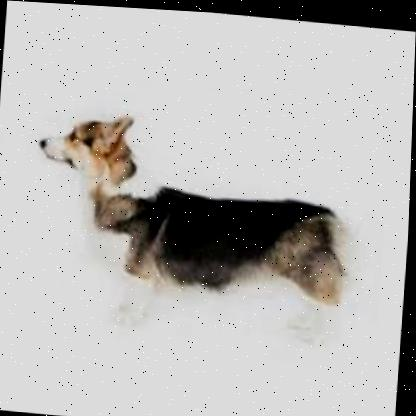dog: (26, 105, 360, 347)
